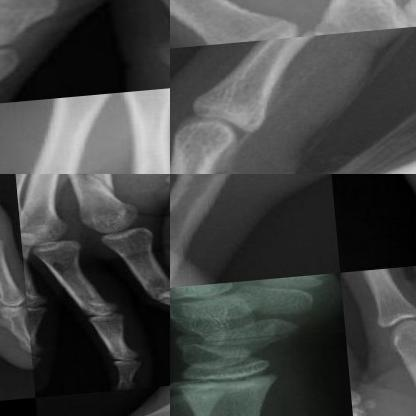fracture: (170, 174, 330, 194), (58, 174, 134, 216)
